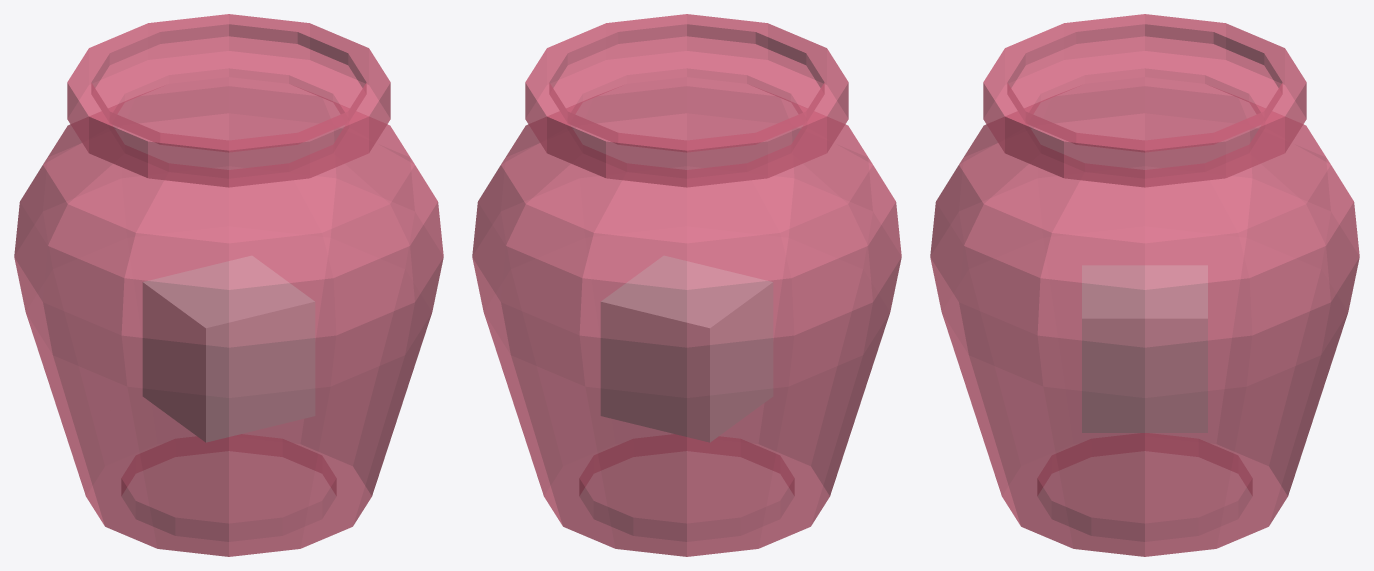
The model's file is JarTransparencyTest3.fbx.
The picture shows the model from 3 angles, left to right: view 1: azimuth 30°, elevation 25°; view 2: azimuth 150°, elevation 25°; view 3: azimuth 270°, elevation 25°; orthographic projection.
Parts seen in each view (by area): view 1: Object, Cube; view 2: Object, Cube; view 3: Object, Cube.
Part boxes in pixels (x1=…): Object: x1=14, y1=14, x2=443, y2=556; Cube: x1=143, y1=256, x2=314, y2=442; Object: x1=472, y1=14, x2=901, y2=556; Cube: x1=601, y1=256, x2=772, y2=442; Object: x1=930, y1=14, x2=1359, y2=556; Cube: x1=1082, y1=265, x2=1207, y2=432.
Size of the model in its own units: 48.59 by 51.69 by 48.59.
